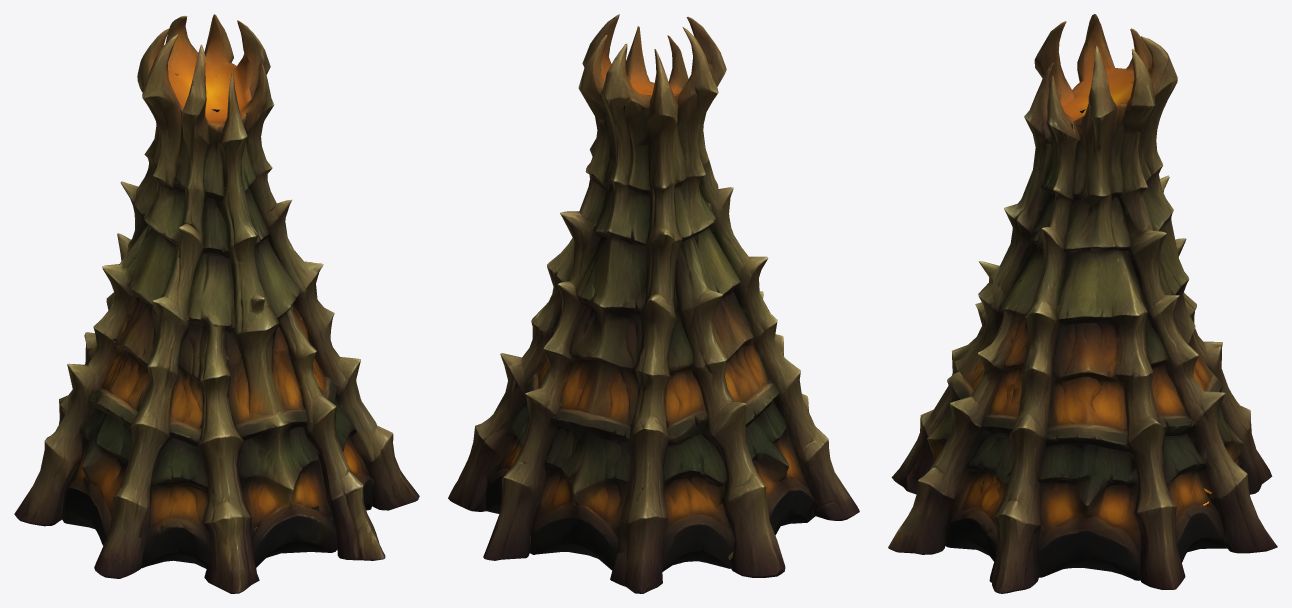
Rendered from hive-spire.glb.
3 views of the same model, side by side, from view 1: azimuth 30°, elevation 25°; view 2: azimuth 150°, elevation 25°; view 3: azimuth 270°, elevation 25° (orthographic). The views are drawn at different scales.
Visible parts, largest first — view 1: SM_HiveSpire; view 2: SM_HiveSpire; view 3: SM_HiveSpire.
Boxes of the visible parts, <box> form: SM_HiveSpire: <box>14,14,419,593</box>; SM_HiveSpire: <box>448,14,859,593</box>; SM_HiveSpire: <box>888,14,1277,593</box>.
Size of the model in its own units: 1.35 by 1.9 by 1.38.
1 material, 1 textured.
